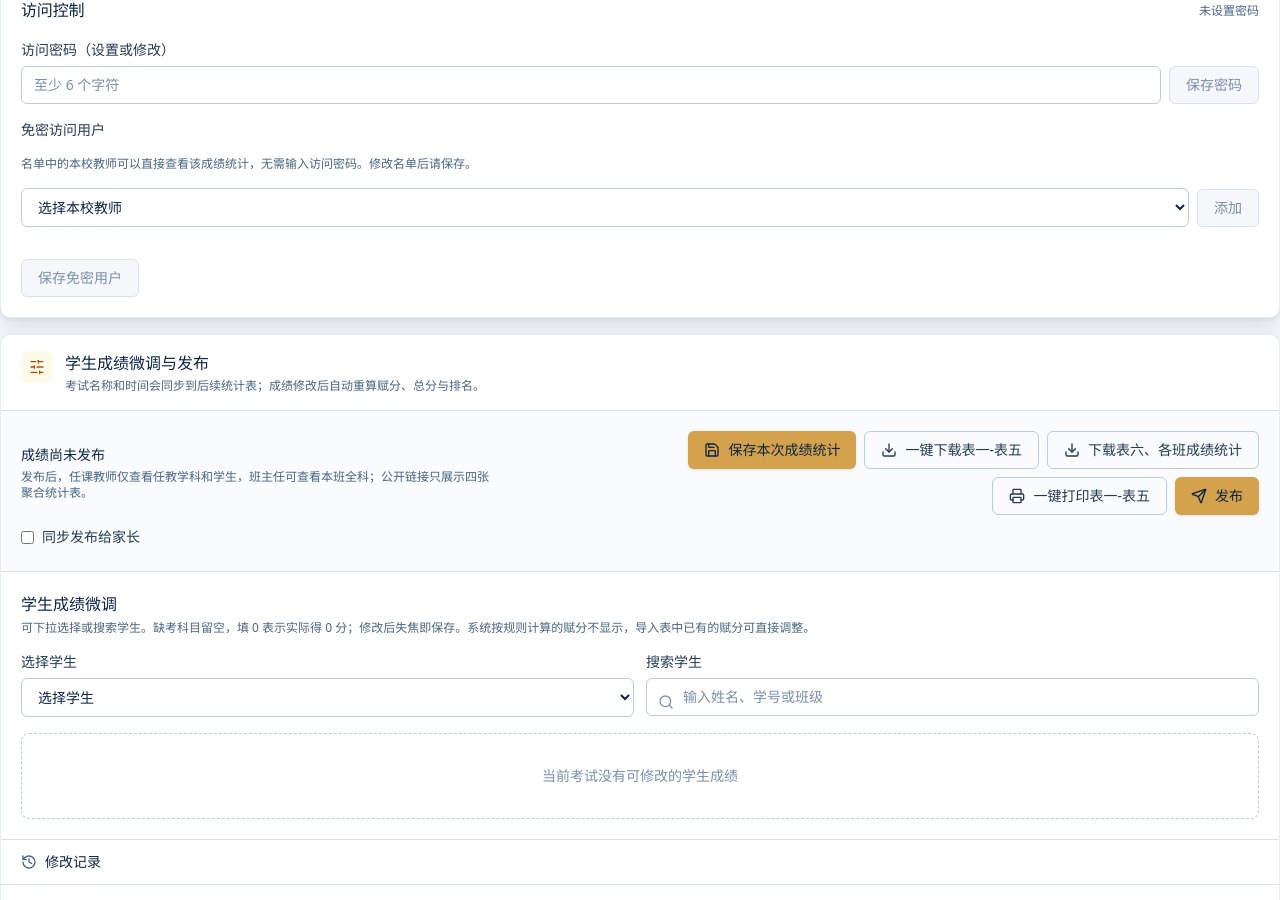
Test case: MyExamsPage › saves this exam independently and switches to its saved configuration
(page scrolled)
Click the button "保存本次成绩统计" at (772, 450), box x1=688 y1=431 x2=856 y2=469
(page scrolled)
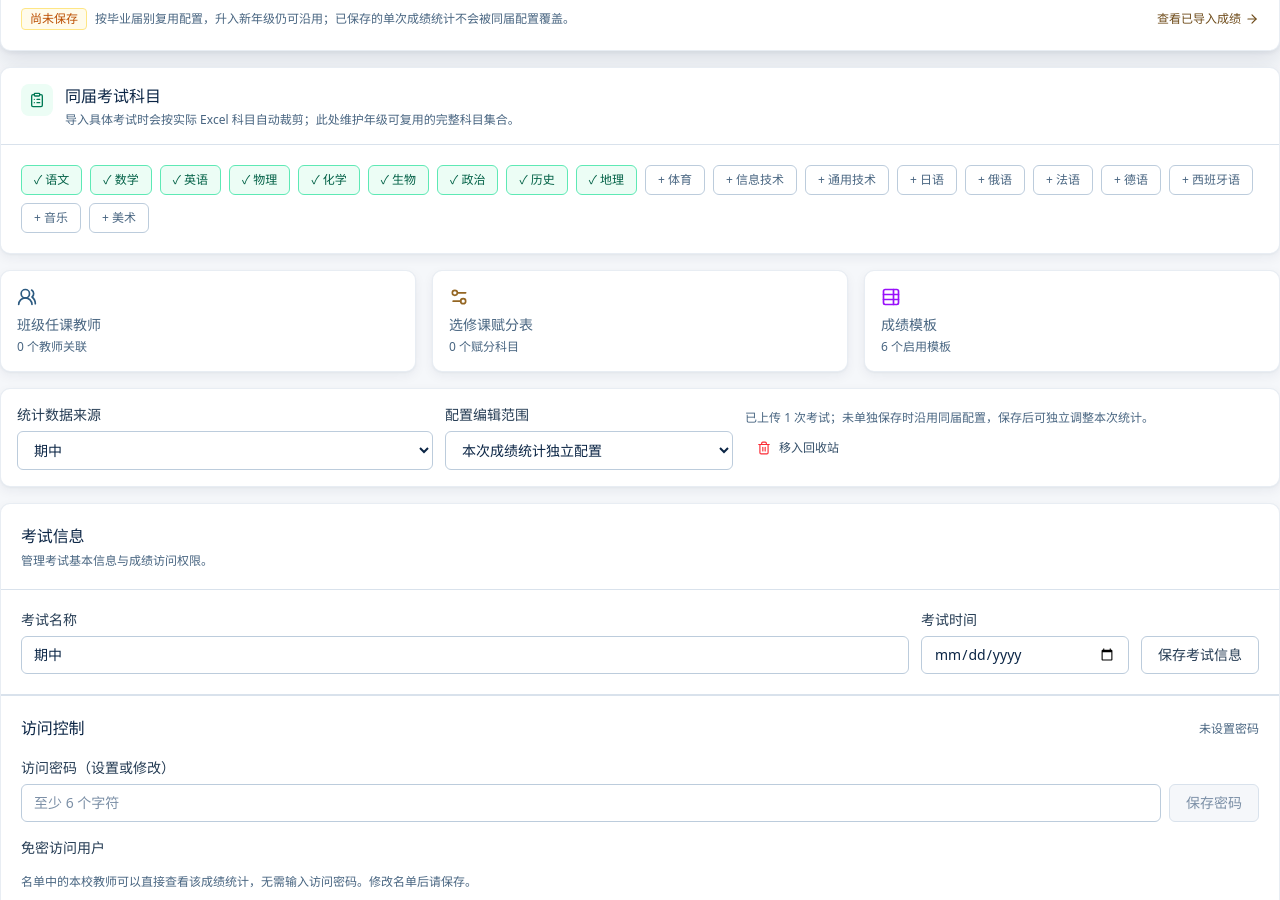
Result: the dropdown labelled "配置编辑范围" shows "本次成绩统计独立配置"
Select "同届复用配置" in the dropdown labelled "配置编辑范围" at (589, 450), box x1=445 y1=431 x2=733 y2=470
(page scrolled)
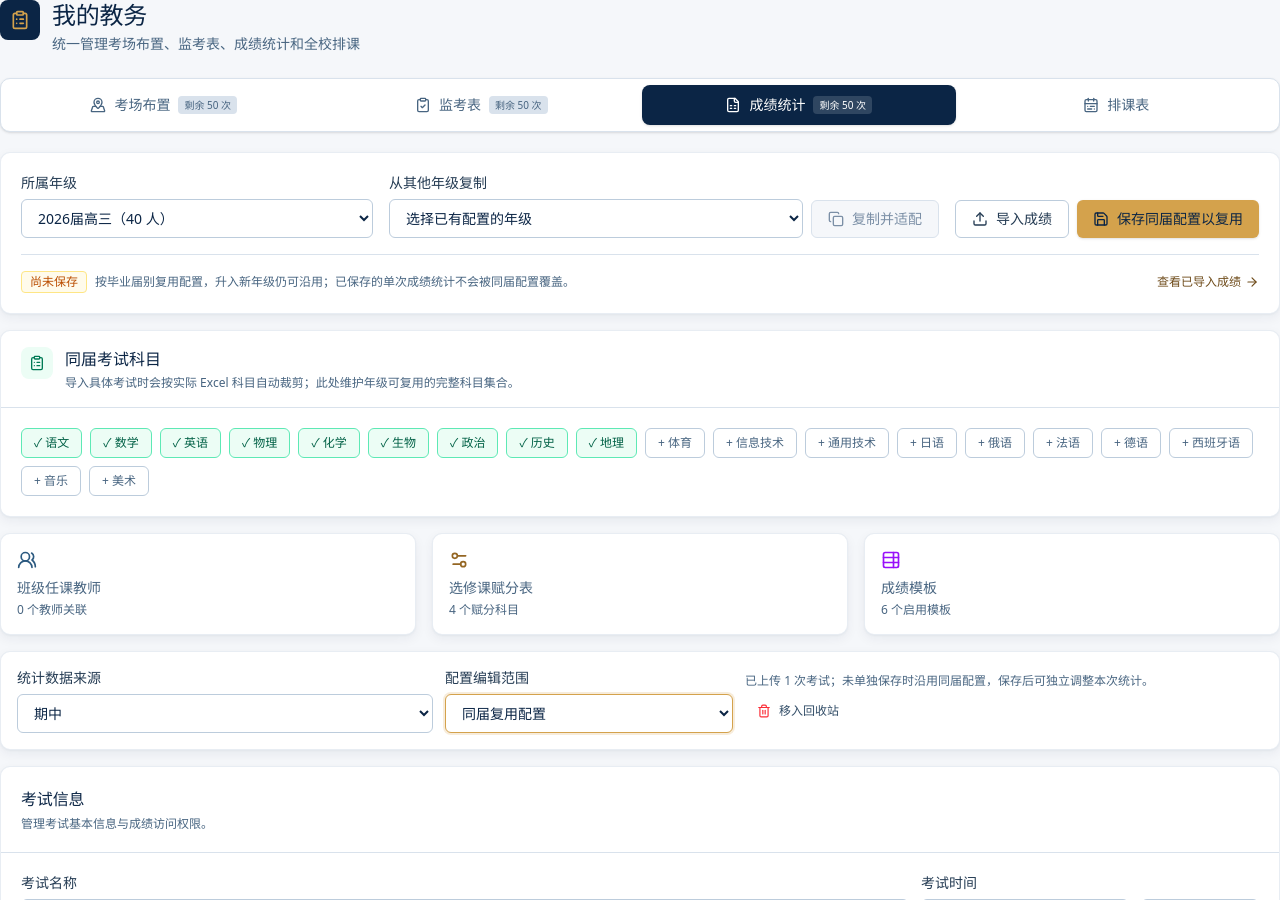
Result: the button "保存同届配置以复用" is enabled at x1=1077 y1=200 x2=1259 y2=238
